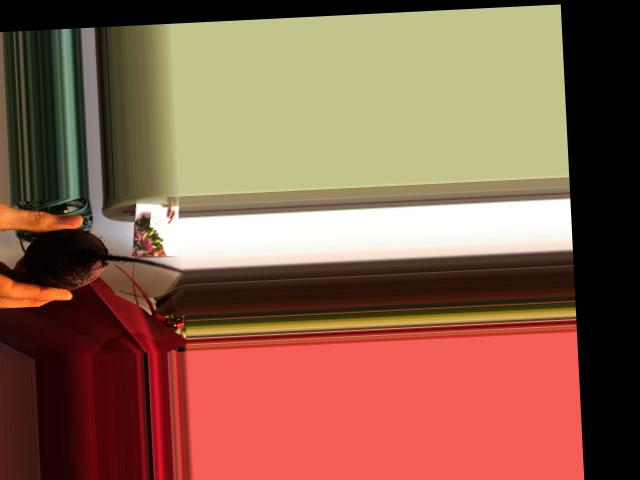beet: (21, 223, 185, 291)
